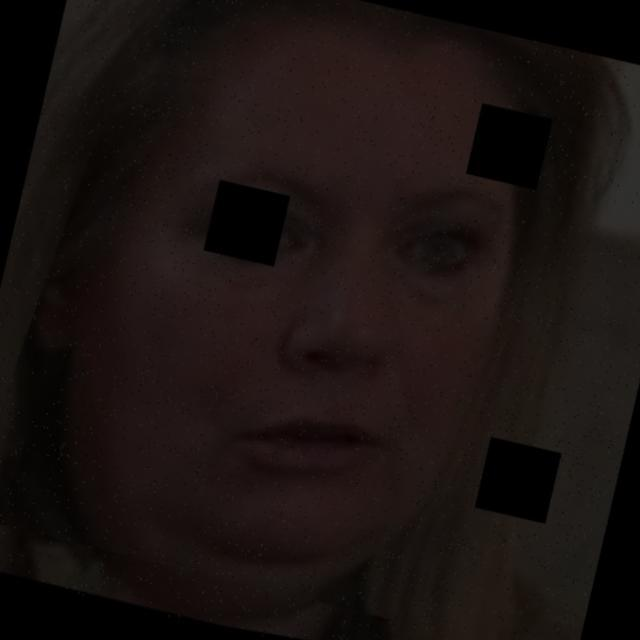Sad: (65, 116, 603, 546)
